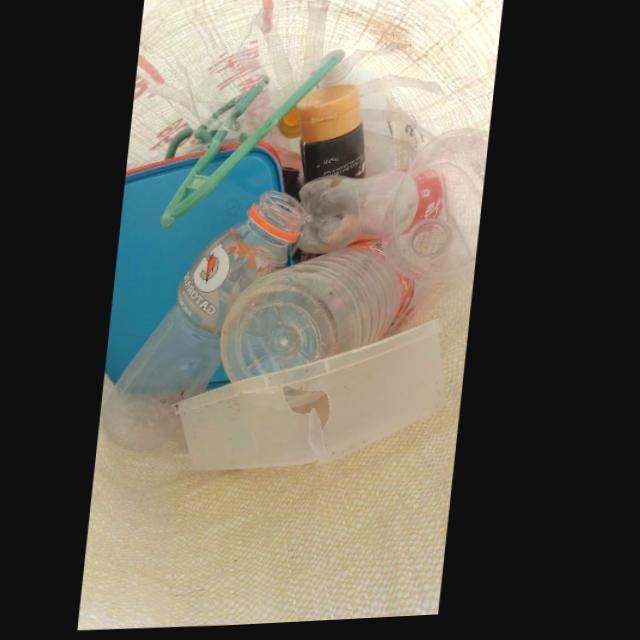plastic: (109, 193, 312, 455), (183, 325, 454, 477), (227, 244, 420, 386), (302, 174, 410, 258)
